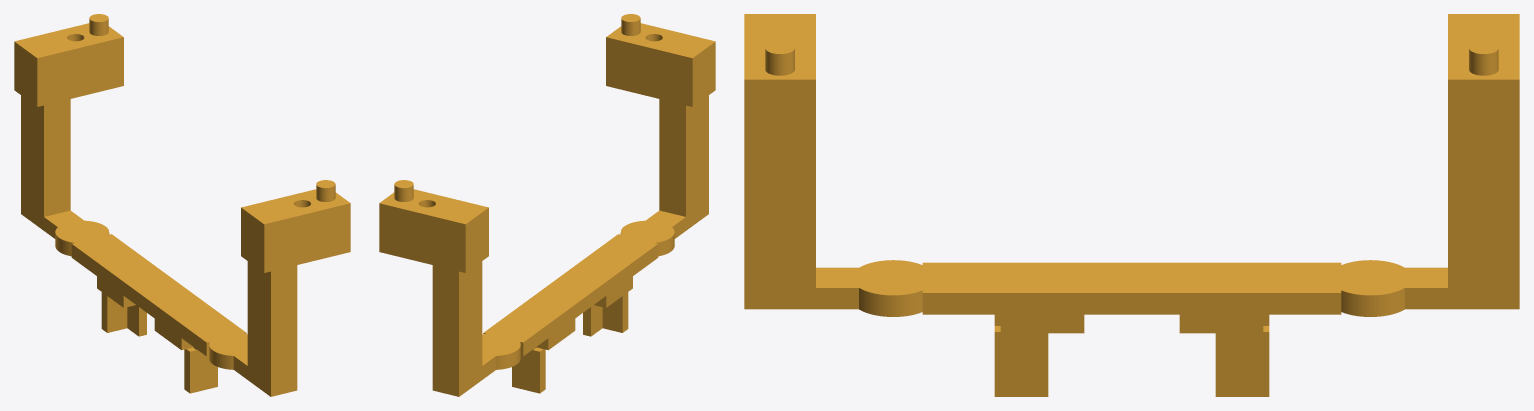
File: front_gate.glb
3 views of the same model, side by side, from view 1: azimuth 30°, elevation 25°; view 2: azimuth 150°, elevation 25°; view 3: azimuth 270°, elevation 25° (orthographic). The views are drawn at different scales.
Visible parts, largest first — view 1: front_gate; view 2: front_gate; view 3: front_gate.
Part boxes in pixels (bbox=[...]): front_gate: bbox=[14, 14, 350, 396]; front_gate: bbox=[379, 14, 715, 396]; front_gate: bbox=[744, 14, 1519, 396].
Bounding box in the file's own units: 0.027 × 0.07 × 0.13.
